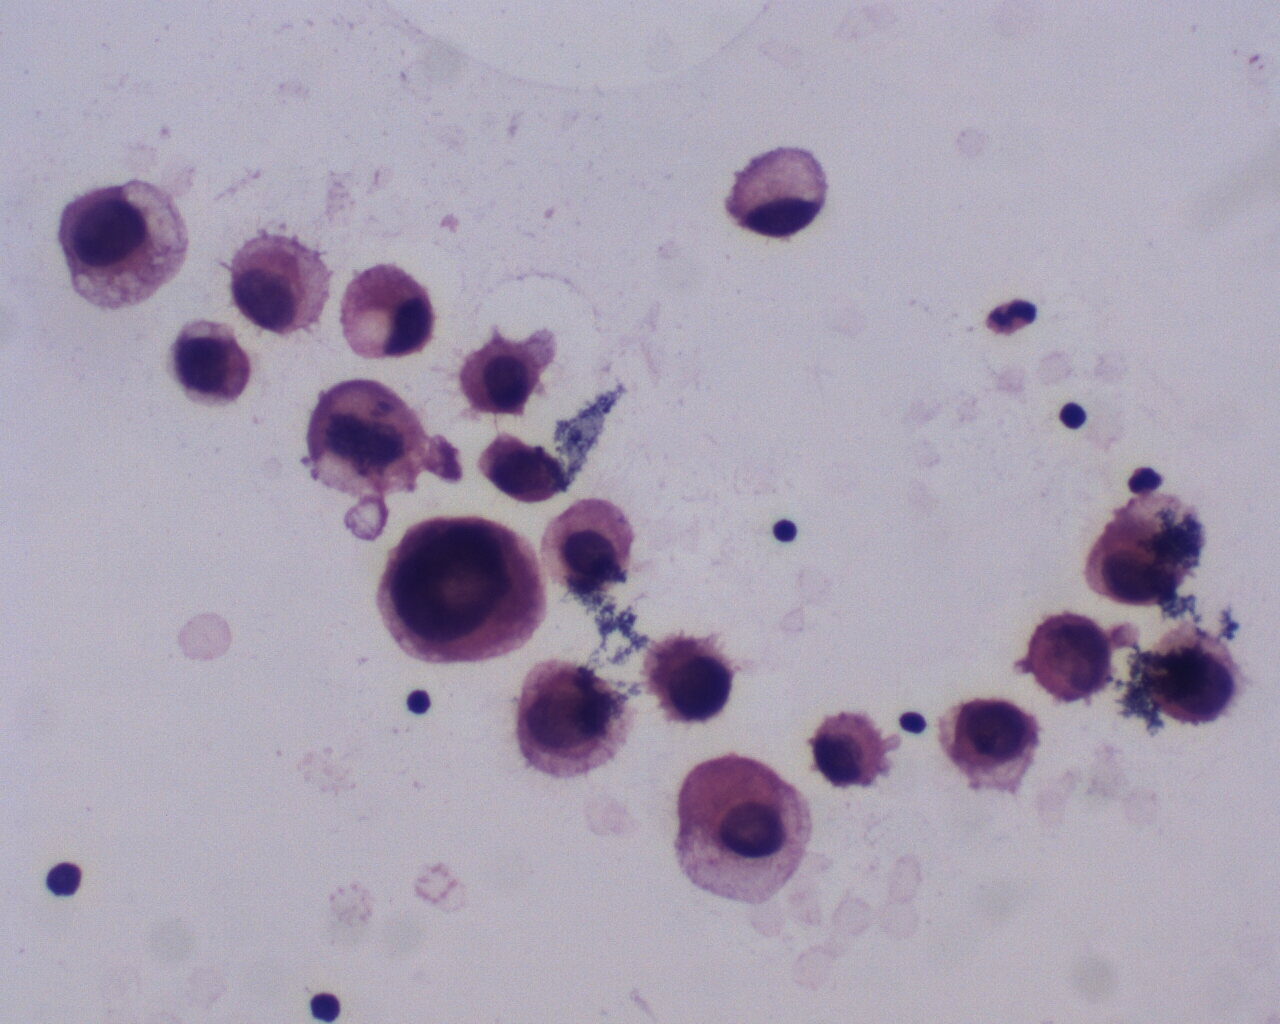ab: (379, 516, 546, 672), (290, 377, 434, 507), (517, 656, 638, 788), (945, 692, 1048, 799), (1032, 605, 1123, 715), (1150, 626, 1243, 731), (646, 630, 740, 730), (162, 315, 260, 410)
histo: (716, 133, 831, 250), (338, 254, 438, 364)
lymph: (38, 855, 94, 904), (771, 505, 807, 550)
meso: (456, 332, 544, 420)
